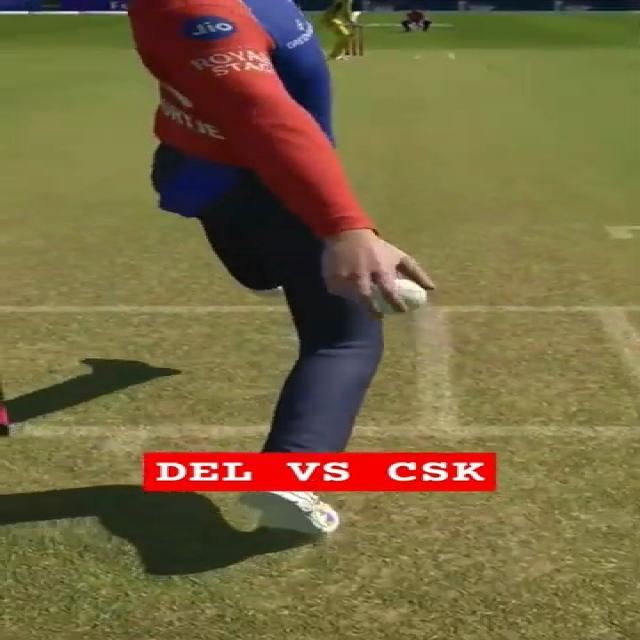ball: (372, 277, 427, 314)
